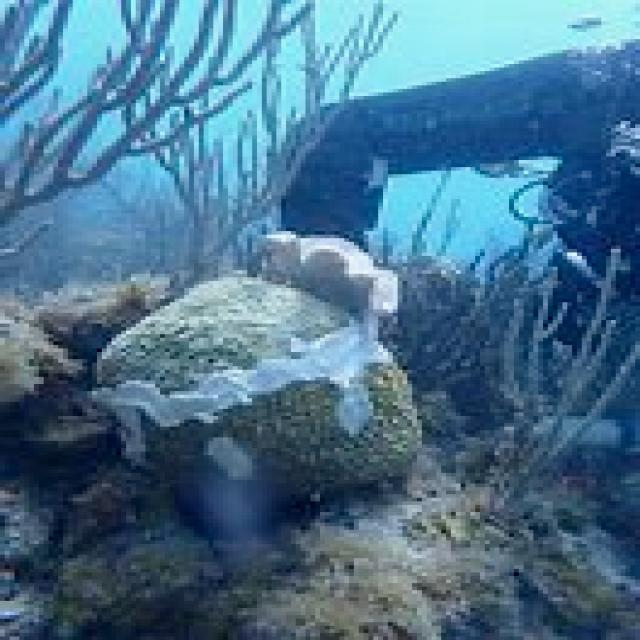Coral: (93, 269, 421, 485)
